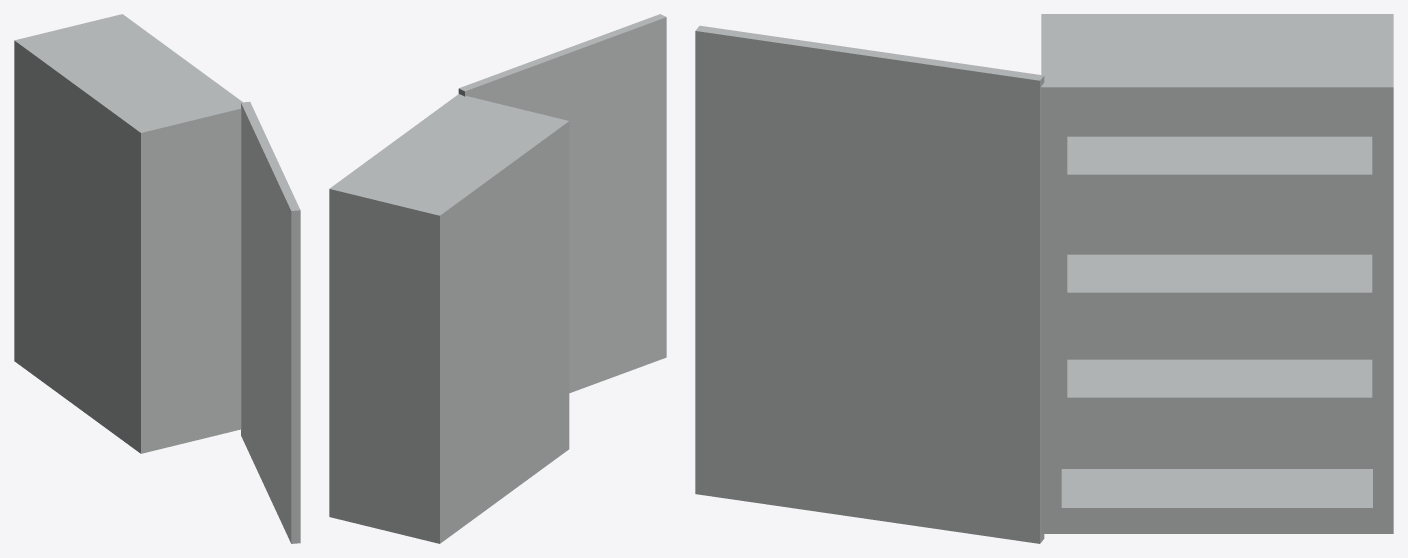
Rendered from cabinetOpenFar.glb.
3 renders of one model, left to right at view 1: azimuth 30°, elevation 25°; view 2: azimuth 150°, elevation 25°; view 3: azimuth 270°, elevation 25°, orthographic. The views are drawn at different scales.
Visible parts, largest first — view 1: pCube1.001, pCube5.001; view 2: pCube1.001, pCube5.001; view 3: pCube5.001, pCube1.001, pCube2.001, pCube4.001, pCube3.001.
Boxes of the visible parts, box(x1,y1,x2,y2) form: pCube1.001: box(14, 14, 242, 453); pCube5.001: box(241, 101, 300, 543); pCube1.001: box(329, 94, 569, 543); pCube5.001: box(458, 14, 666, 393); pCube5.001: box(695, 25, 1044, 543); pCube1.001: box(1041, 14, 1393, 533); pCube2.001: box(1067, 359, 1372, 416); pCube4.001: box(1067, 136, 1372, 193); pCube3.001: box(1067, 254, 1372, 311).
Bounding box in the file's own units: 0.0836 × 0.2445 × 0.3341.
Materials: 1 (1 with a texture image).
